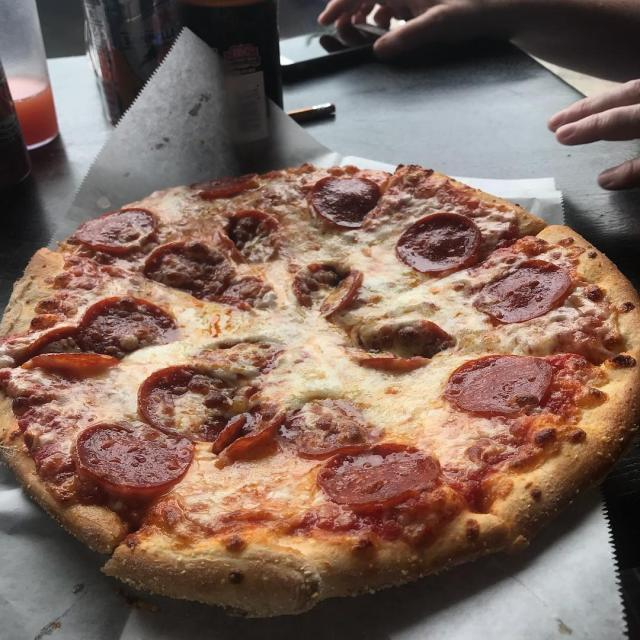pepperoni: (72, 416, 199, 494), (319, 440, 444, 511), (140, 361, 247, 442), (445, 352, 556, 419), (472, 256, 575, 324), (394, 211, 482, 273), (142, 239, 234, 298), (74, 298, 184, 347), (359, 320, 454, 372), (17, 325, 120, 371), (294, 402, 372, 459), (213, 401, 290, 457), (290, 263, 366, 319), (311, 175, 382, 231), (218, 206, 282, 268), (75, 208, 157, 254), (203, 274, 272, 314), (189, 175, 258, 198)
pizza: (0, 159, 640, 620)
